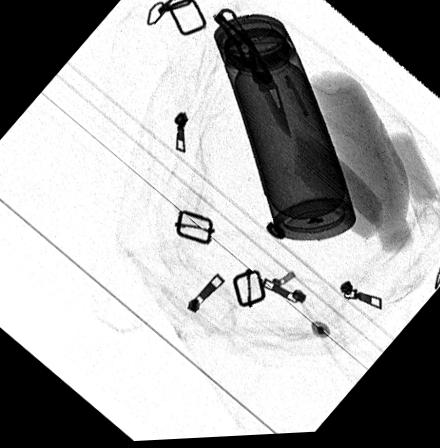Knife: (212, 11, 293, 144)
